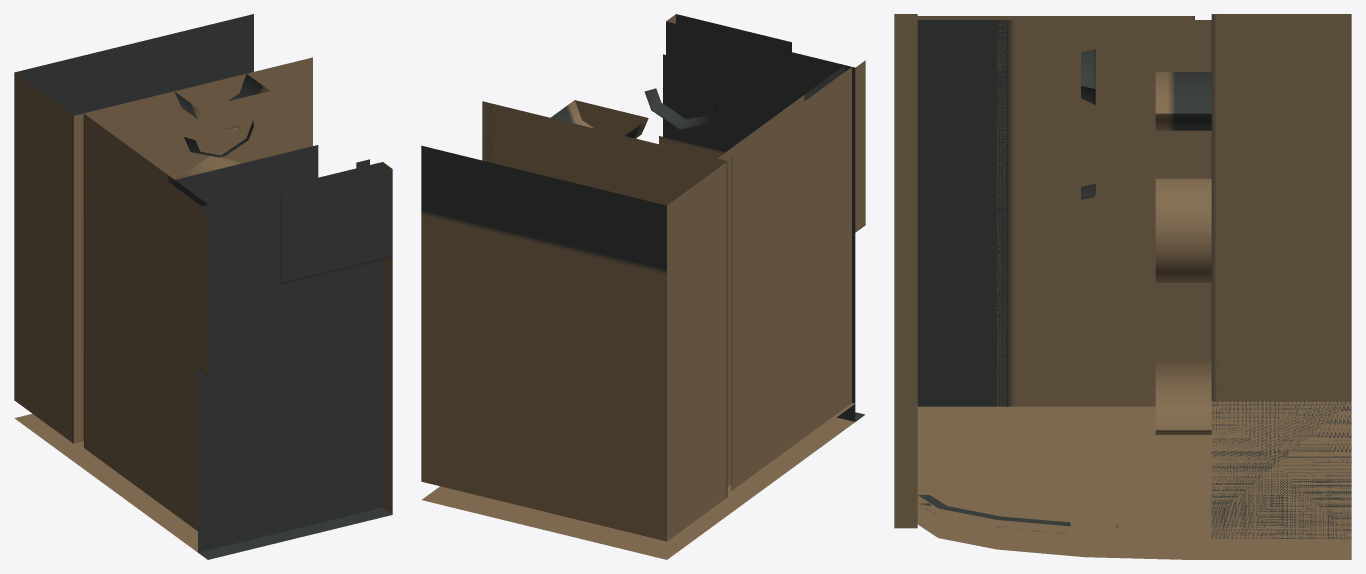
The model's file is section-5.obj.
The picture shows the model from 3 angles, left to right: view 1: azimuth 30°, elevation 25°; view 2: azimuth 150°, elevation 25°; view 3: azimuth 270°, elevation 25°; orthographic projection. The views are drawn at different scales.
Size of the model in its own units: 0.7 by 0.965 by 0.98.
